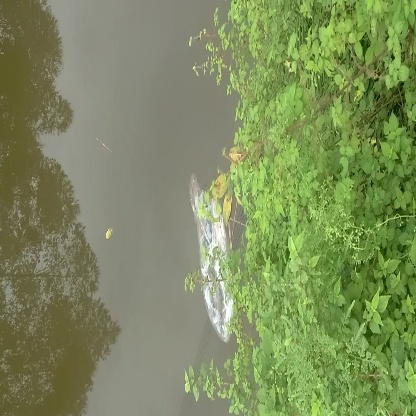plastic-bag: (179, 176, 242, 341)
